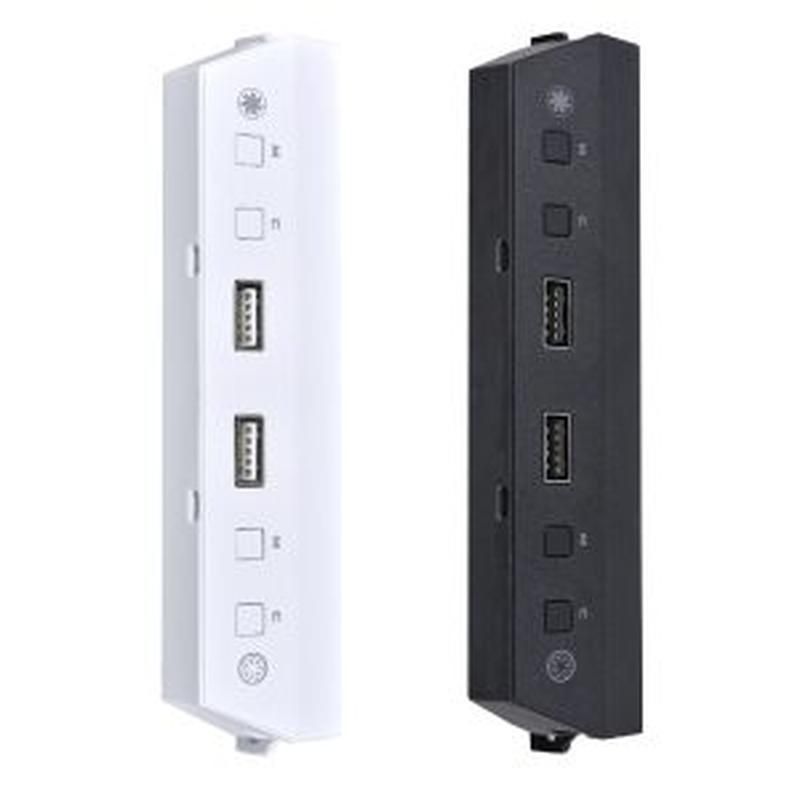USB: (220, 400, 280, 497), (218, 265, 274, 361), (528, 402, 582, 492), (537, 267, 578, 357)
